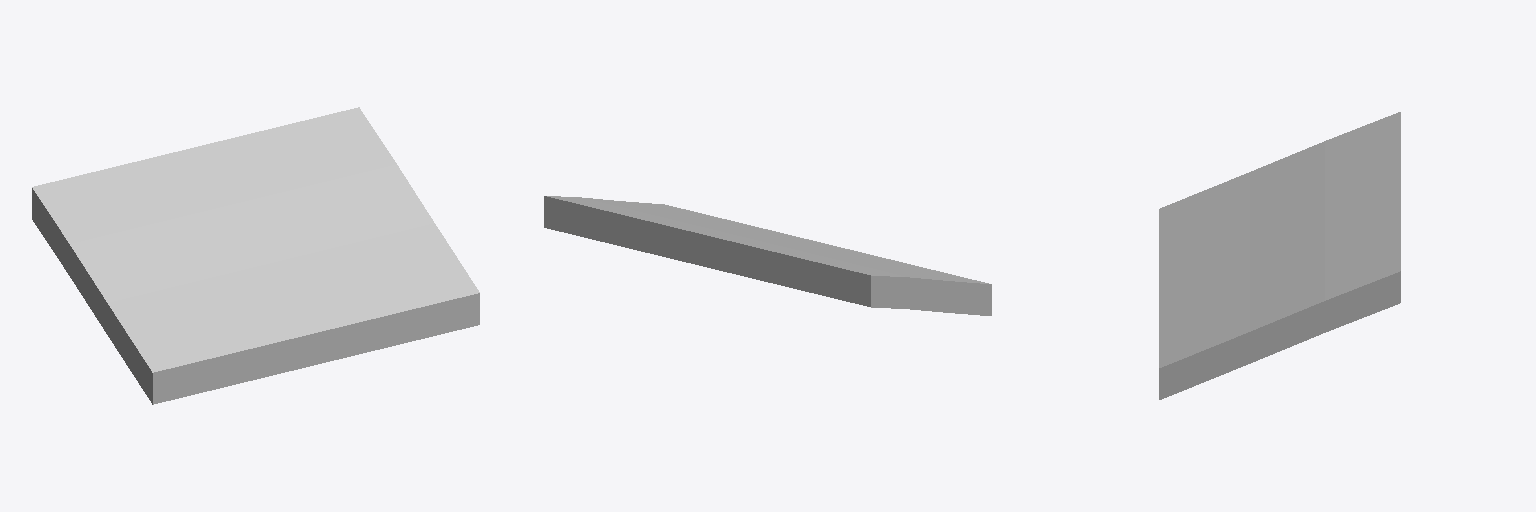
Rendered from house25.obj.
The picture shows the model from 3 angles: view 1: azimuth 30°, elevation 25°; view 2: azimuth 150°, elevation 25°; view 3: azimuth 270°, elevation 25°; orthographic projection.
Parts seen in each view (by area): view 1: 立方体.027; view 2: 立方体.027; view 3: 立方体.027.
Part boxes in pixels (x1,y1,x2,y2): 立方体.027: (32,107,479,404); 立方体.027: (544,196,991,315); 立方体.027: (1159,112,1400,399).
Size of the model in its own units: 30 by 11.31 by 19.19.